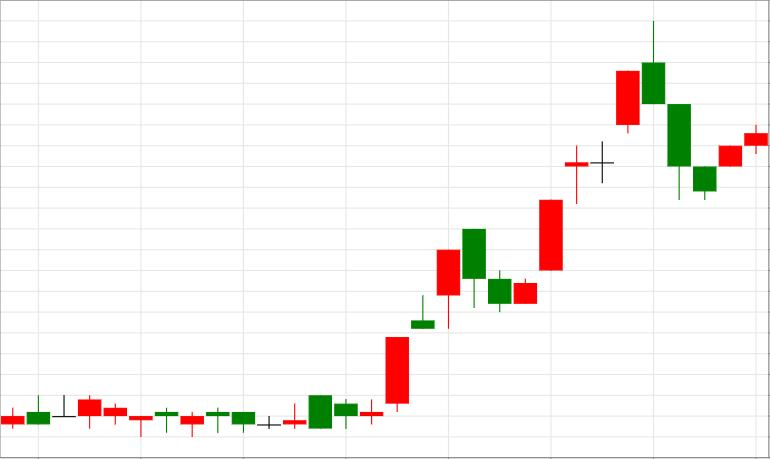three_black_crows_fall: (514, 21, 716, 304)
